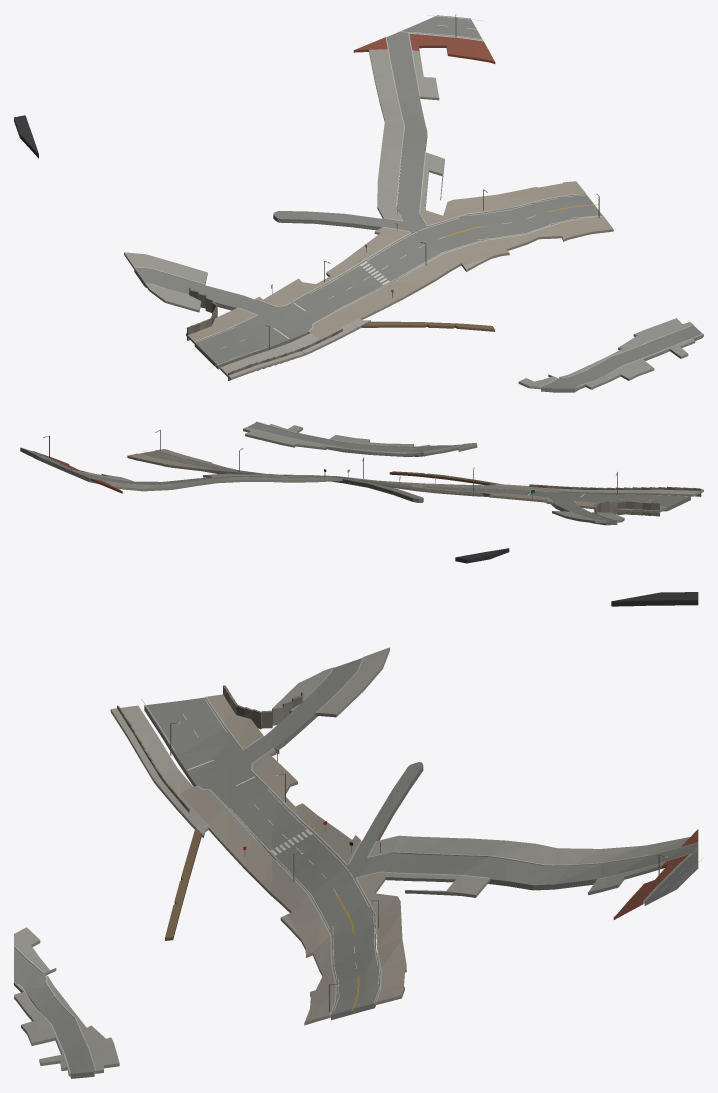
3 views of the same model, one above another, from view 1: azimuth 30°, elevation 25°; view 2: azimuth 150°, elevation 25°; view 3: azimuth 270°, elevation 25° (orthographic). The views are drawn at different scales.
Bounding box in the file's own units: 153 × 51.33 × 147.
